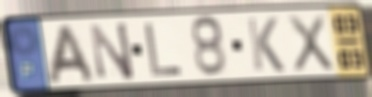8: (189, 14, 229, 81)
A: (46, 22, 98, 86)
K: (244, 16, 287, 75)
L: (142, 21, 186, 79)
N: (87, 19, 137, 82)
X: (285, 12, 337, 74)
